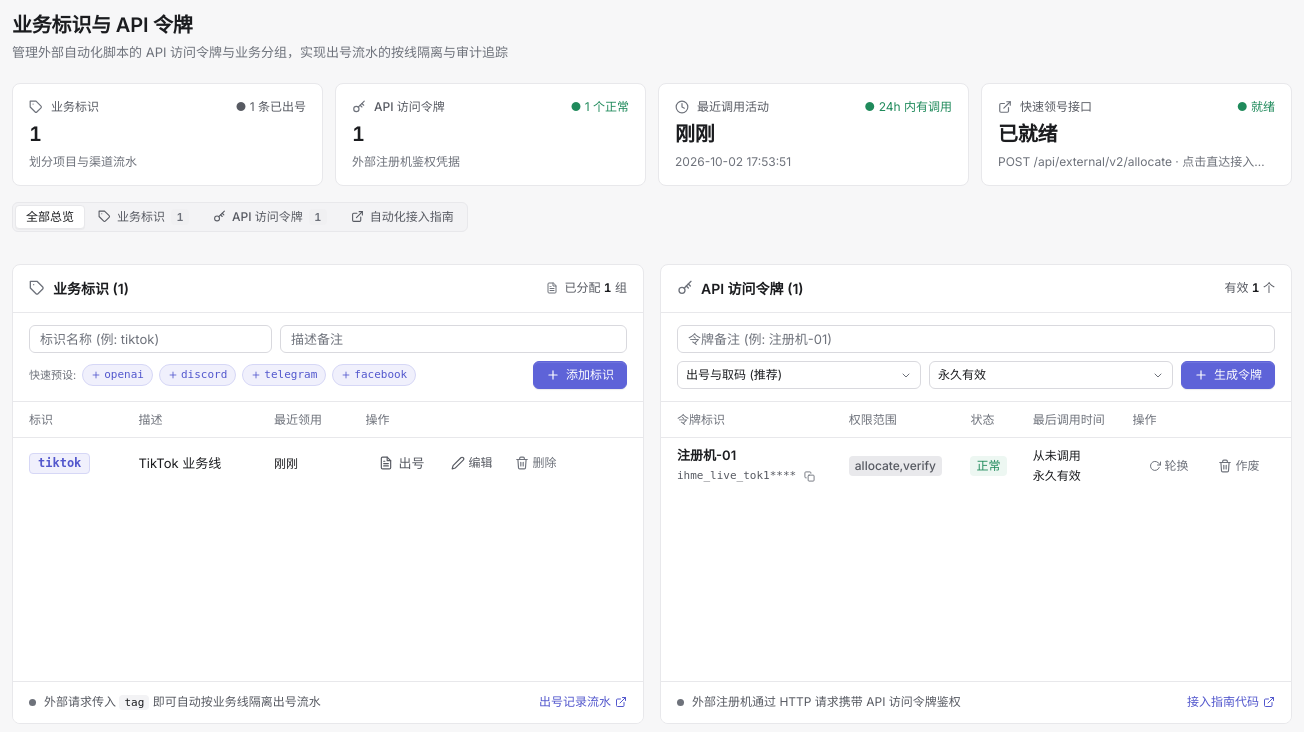
Test: BusinessTagsPage › 创建业务标识：提交 POST /api/tags 并刷新列表
Type "walmart" into the field with placeholder "标识名称 (例: tiktok)". click: (151, 339)
box: [29,325,272,353]
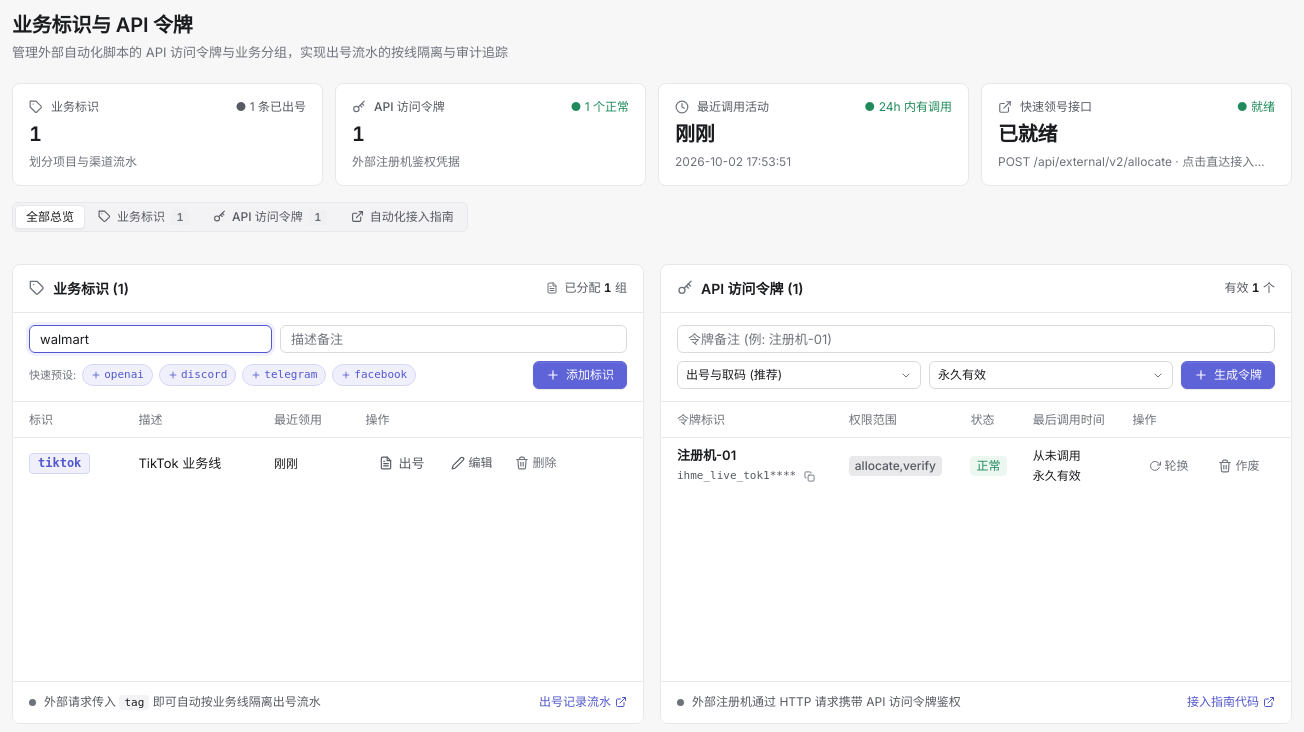
Type "沃尔玛业务线" into the field with placeholder "描述备注". click: (454, 339)
box: [280,325,627,353]
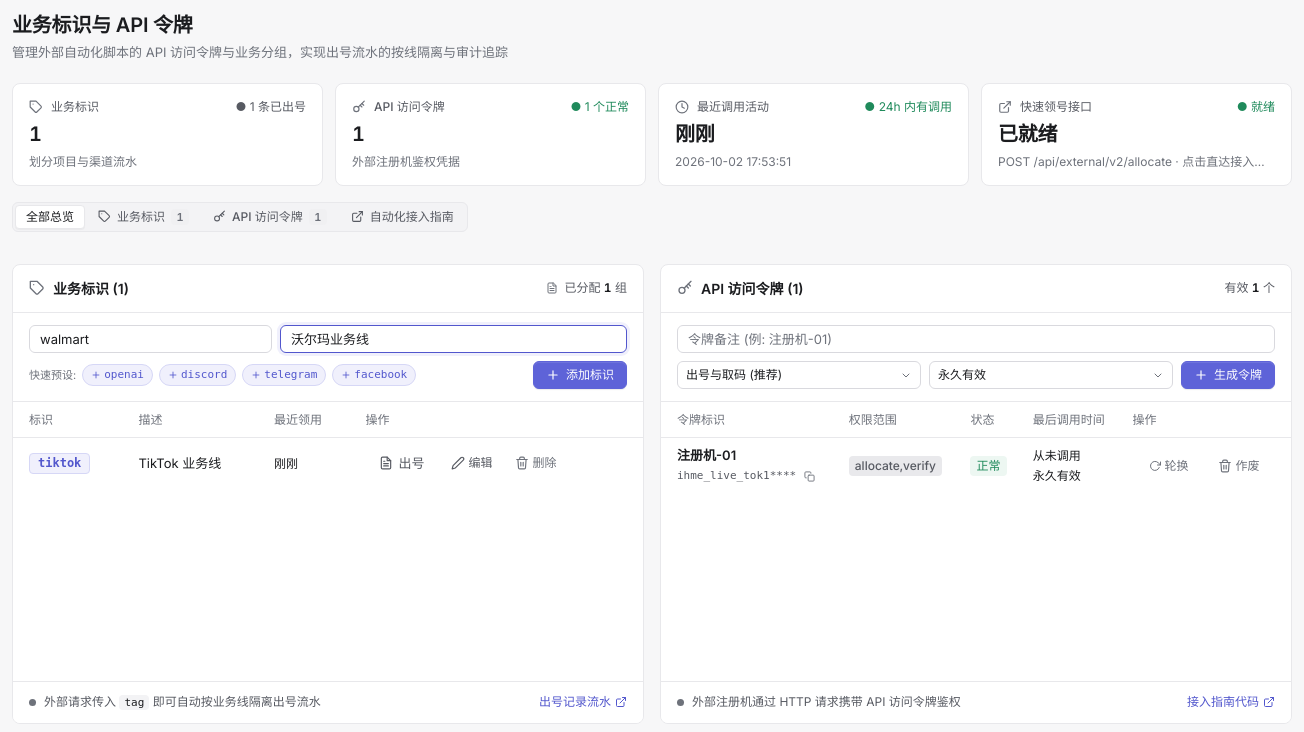
Click the button "添加标识". click: (580, 375)
box: [533,361,627,389]
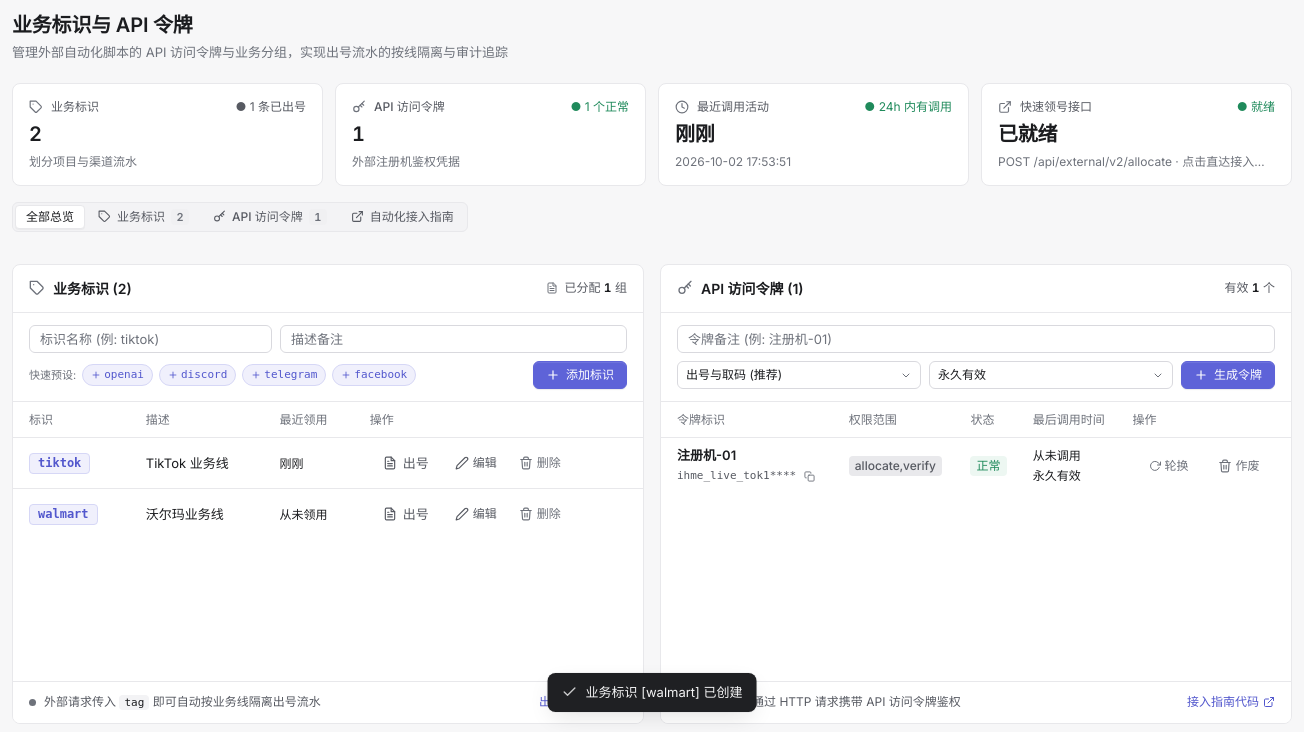
expect the text "walmart" is shown: met, box [29,504,98,525]
